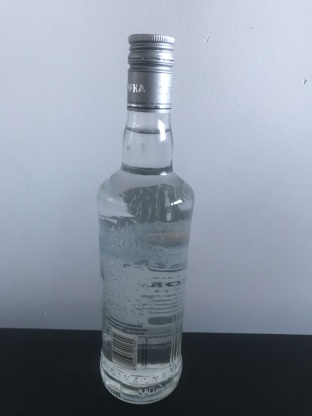nakretka: (125, 31, 176, 112)
